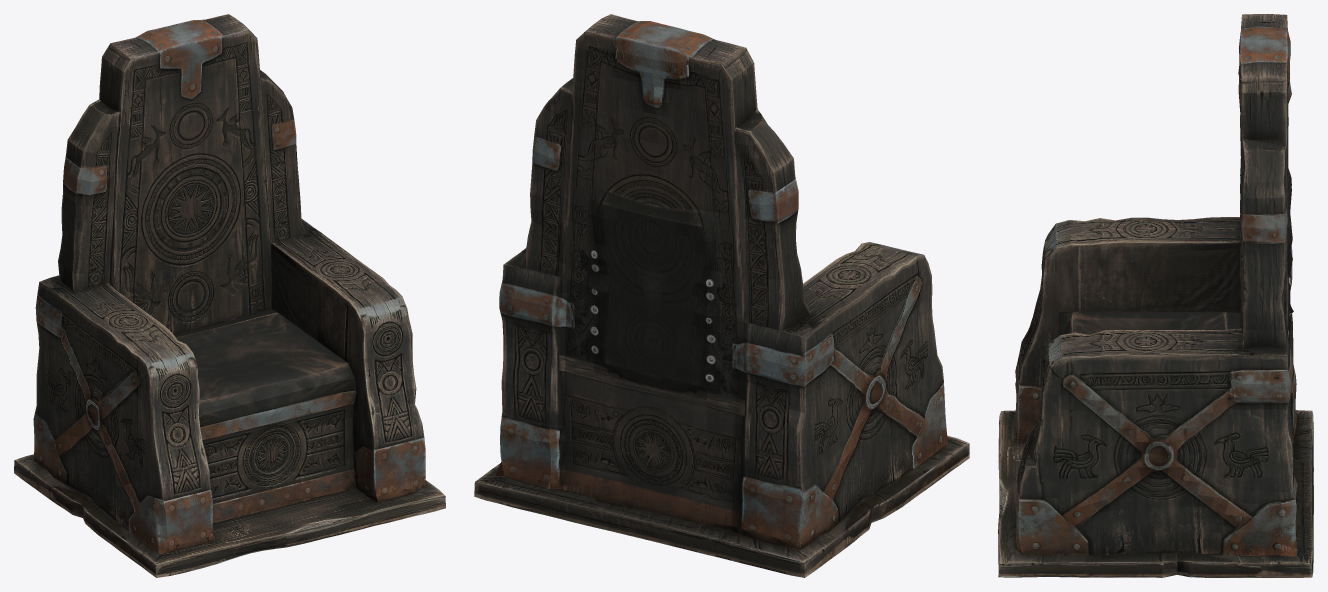
Rendered from p_ironthrone.glb.
The picture shows the model from 3 angles, left to right: view 1: azimuth 30°, elevation 25°; view 2: azimuth 150°, elevation 25°; view 3: azimuth 270°, elevation 25°; orthographic projection. The views are drawn at different scales.
Size of the model in its own units: 1.37 by 1.91 by 1.19.
1 material, 1 textured.
